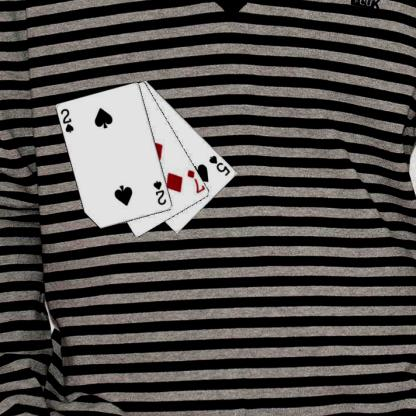2S: (150, 178, 167, 206), (58, 106, 75, 134)
5S: (207, 153, 231, 177)
7D: (185, 167, 205, 195)
